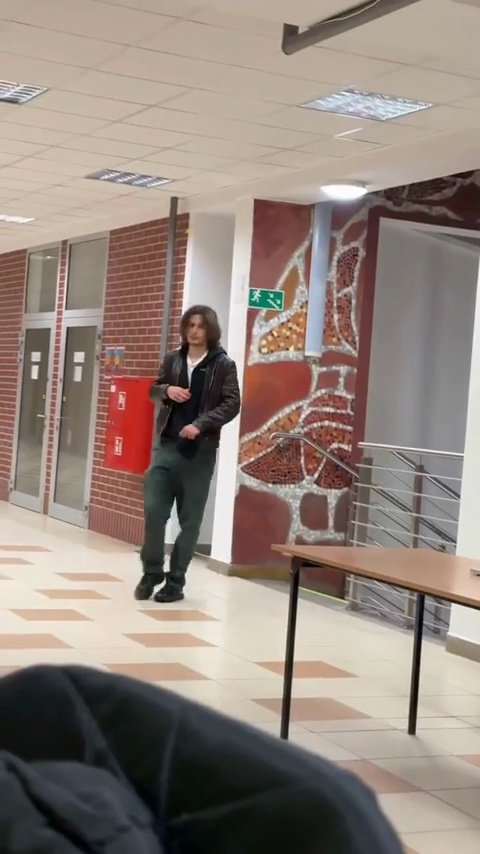no vest: (149, 303, 244, 613)
